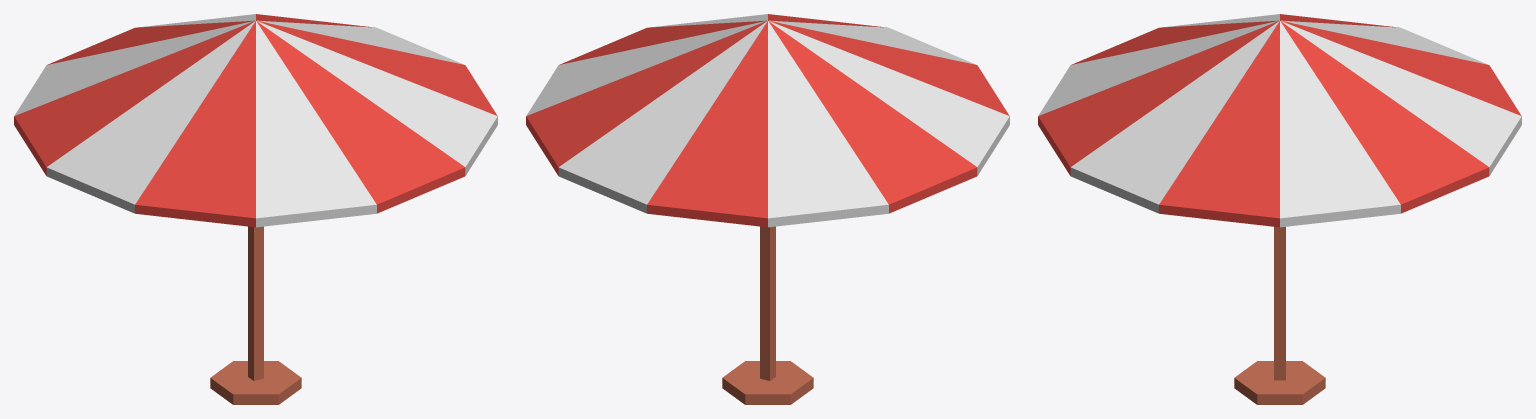
Rendered from Parasol1.fbx.
3 renders of one model, left to right at view 1: azimuth 30°, elevation 25°; view 2: azimuth 150°, elevation 25°; view 3: azimuth 270°, elevation 25°, orthographic.
Visible parts, largest first — view 1: Cylinder; view 2: Cylinder; view 3: Cylinder.
Part boxes in pixels (x1=…): Cylinder: x1=14, y1=14, x2=497, y2=404; Cylinder: x1=526, y1=14, x2=1009, y2=404; Cylinder: x1=1038, y1=14, x2=1521, y2=404.
Size of the model in its own units: 417 by 350 by 417.
